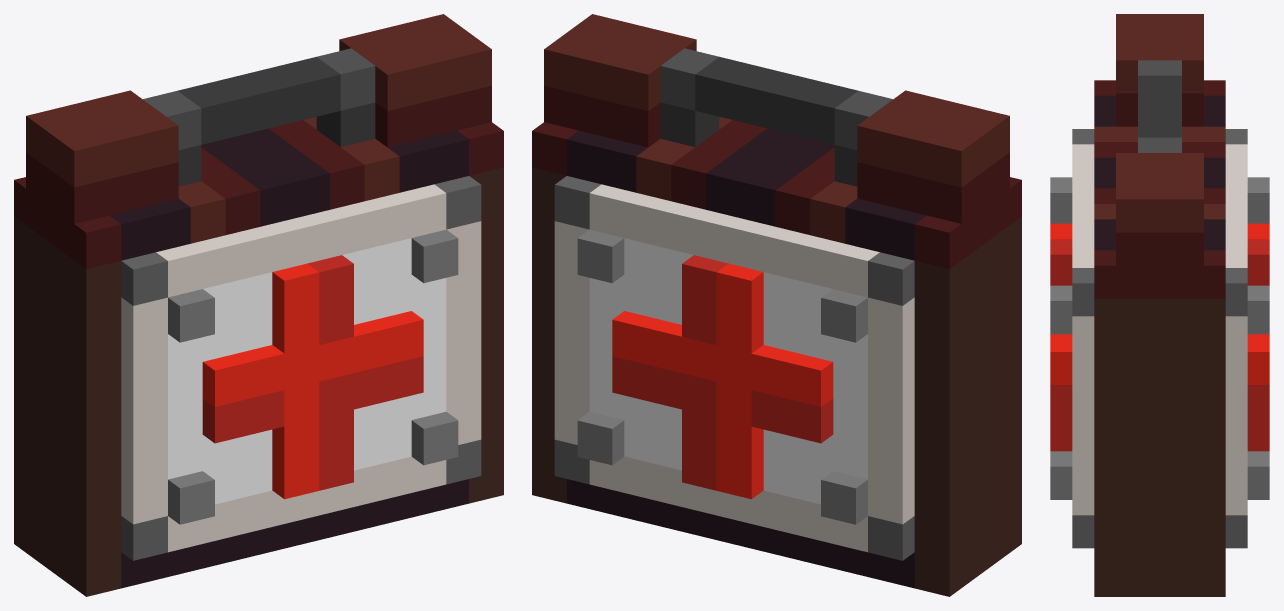
The model's file is Kit TQF Toogit.fbx.
3 views of the same model, side by side, from view 1: azimuth 30°, elevation 25°; view 2: azimuth 150°, elevation 25°; view 3: azimuth 270°, elevation 25° (orthographic). The views are drawn at different scales.
Visible parts, largest first — view 1: generated; view 2: generated; view 3: generated.
Boxes of the visible parts, left/top/right/bottom form: generated: left=14, top=14, right=503, bottom=596; generated: left=532, top=14, right=1021, bottom=596; generated: left=1050, top=14, right=1269, bottom=596.
Size of the model in its own units: 120 by 120 by 60.
